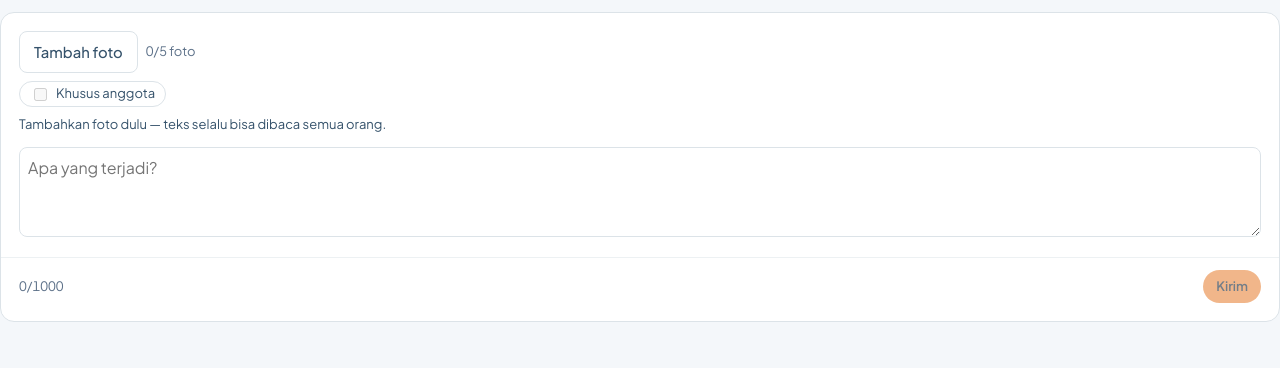
PostComposer — submitting › never surfaces the server's own error text
This screenshot has width=1280, height=368.
Type "halo" into the text box labelled "Apa yang terjadi?" at (640, 192), box [19, 147, 1261, 237]
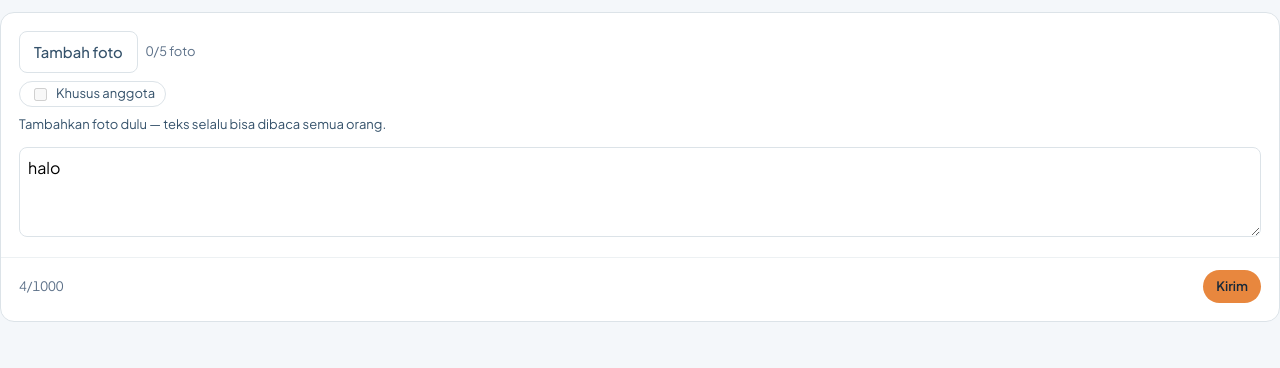
Click the button "Kirim" at (1232, 286), box [1203, 270, 1261, 303]
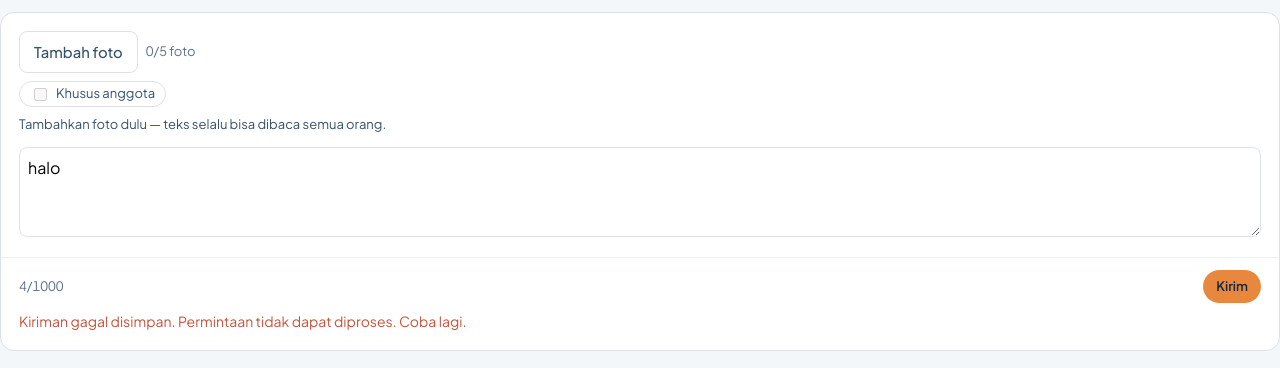
Expected: the message reads "Kiriman gagal disimpan. Permintaan tidak dapat diproses. Coba lagi.", [19, 312, 466, 330]
